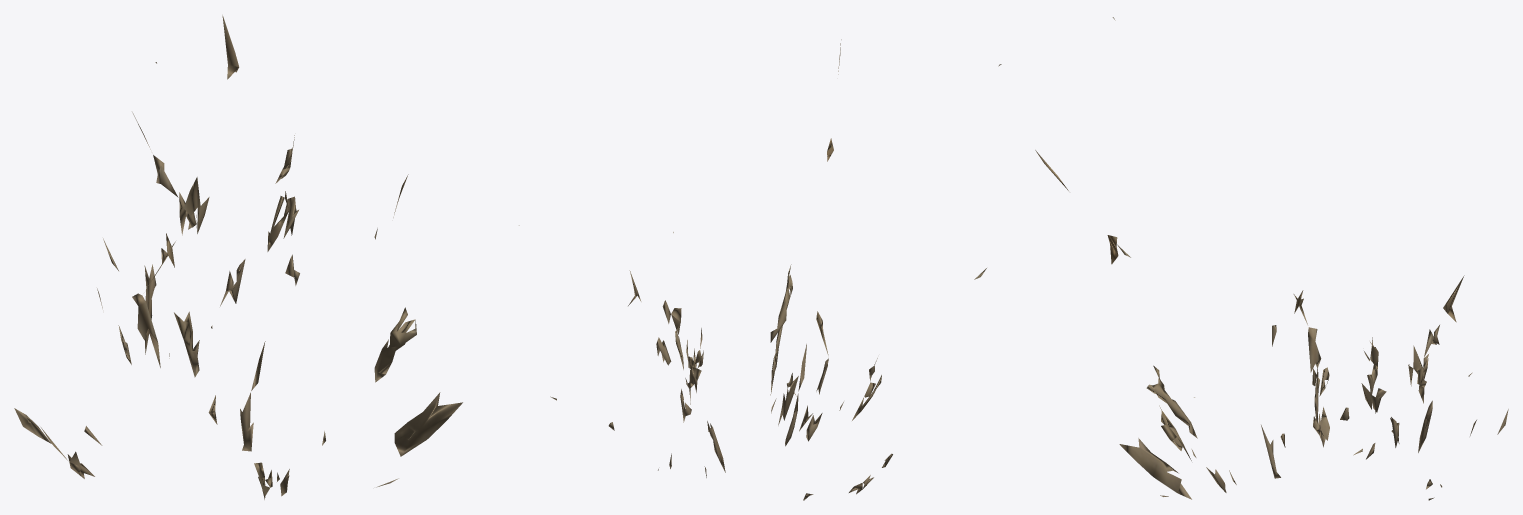
The model's file is desert-bush-2.glb.
3 views of the same model, side by side, from view 1: azimuth 30°, elevation 25°; view 2: azimuth 150°, elevation 25°; view 3: azimuth 270°, elevation 25° (orthographic). The views are drawn at different scales.
Parts seen in each view (by area): view 1: geometry_0; view 2: geometry_0; view 3: geometry_0.
Boxes of the visible parts, bbox=[...] form: geometry_0: bbox=[14, 15, 519, 499]; geometry_0: bbox=[550, 39, 1001, 500]; geometry_0: bbox=[1035, 17, 1508, 500].
Size of the model in its own units: 0.4255 by 0.4995 by 0.5305.
Materials: 1 (1 with a texture image).
